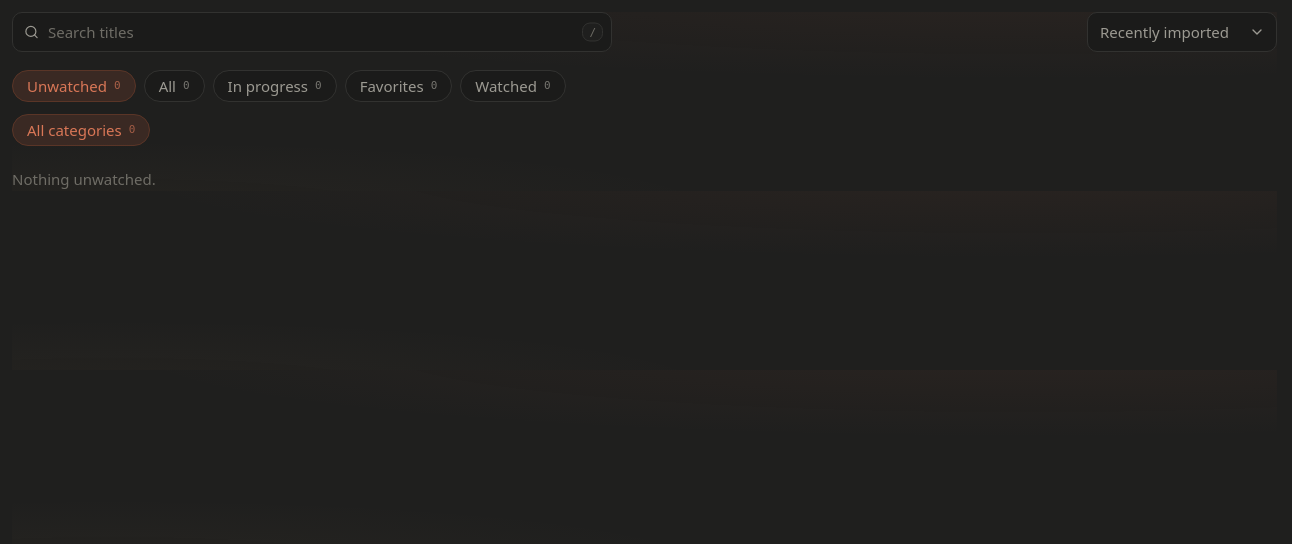
Library category chips › does not count a swept video on the Watched chip
Click the button "Watched 0".
click(513, 86)  # box [460, 70, 566, 102]
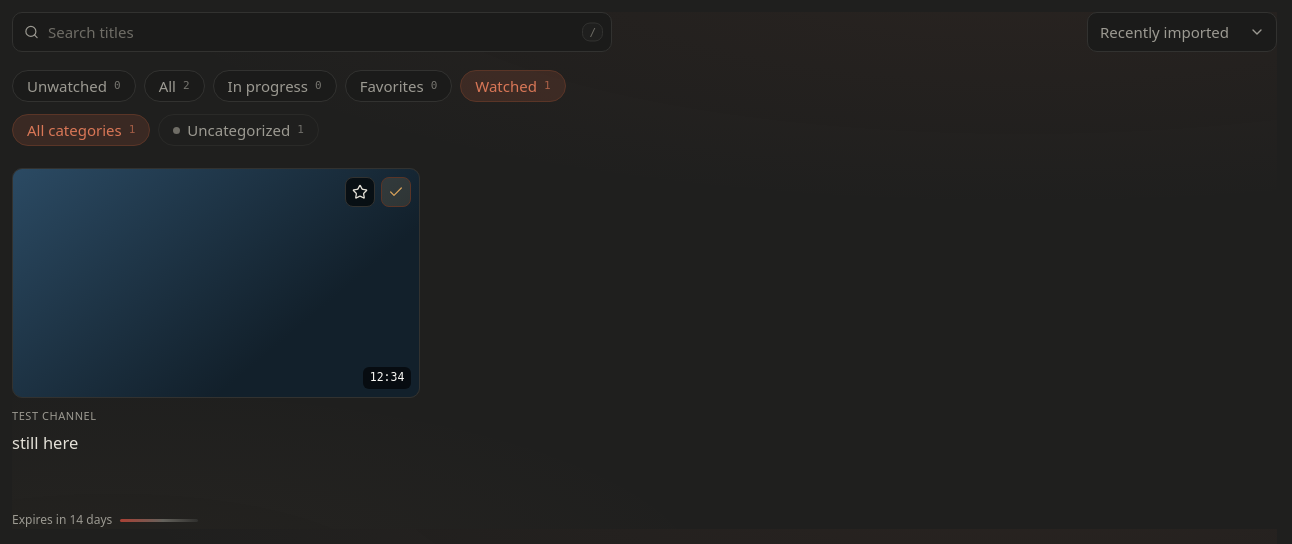
Result: the button "still here" is shown at [12, 431, 78, 454]
